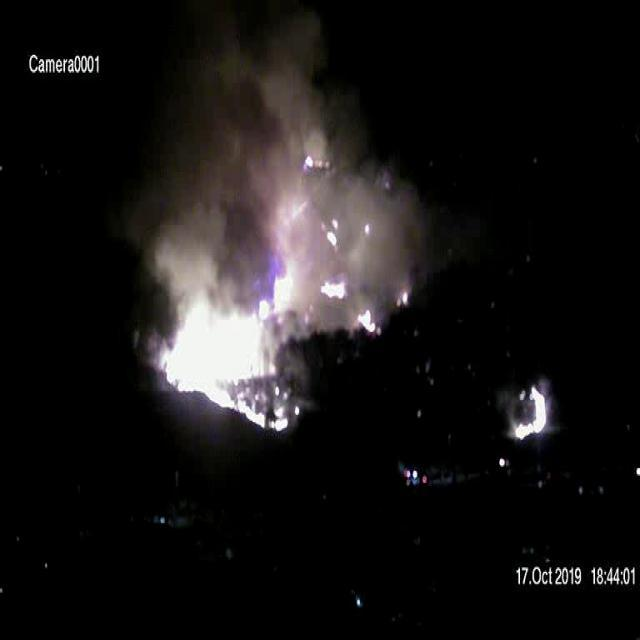Fire: (152, 277, 306, 437), (510, 380, 548, 440), (320, 278, 350, 302), (357, 308, 378, 330)
Smoke: (132, 38, 410, 332)
